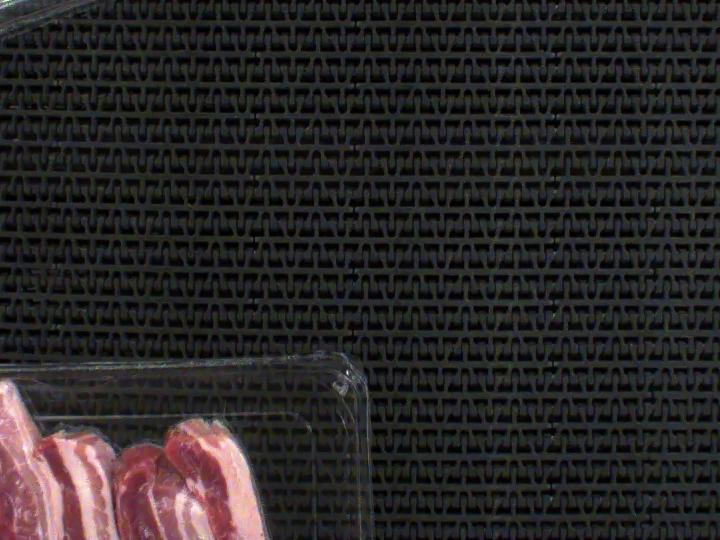unsealed: (0, 392, 265, 472)
